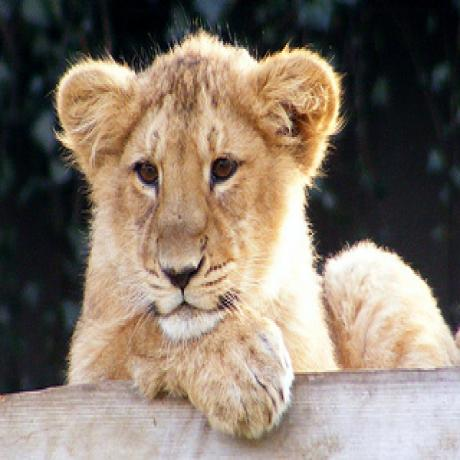Lion: (53, 24, 460, 422)
